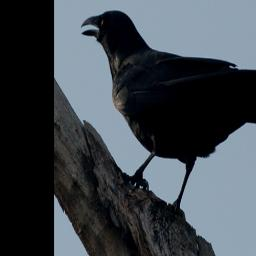Crow: (78, 8, 256, 219)
